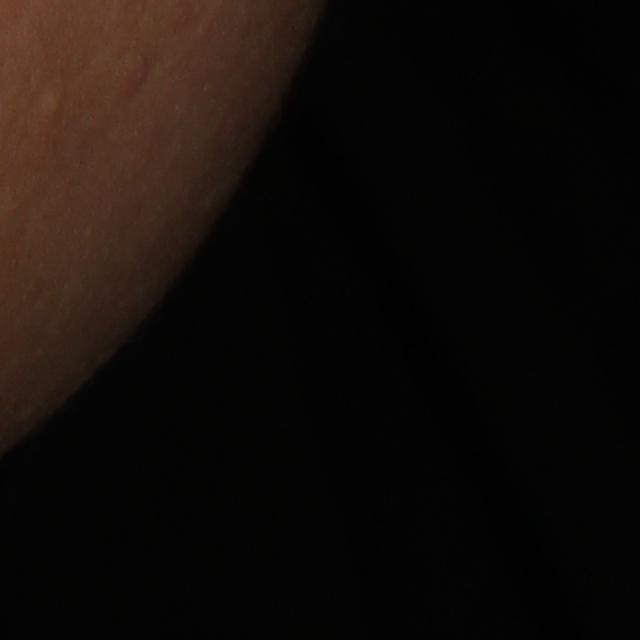comedo: (38, 91, 66, 120)
